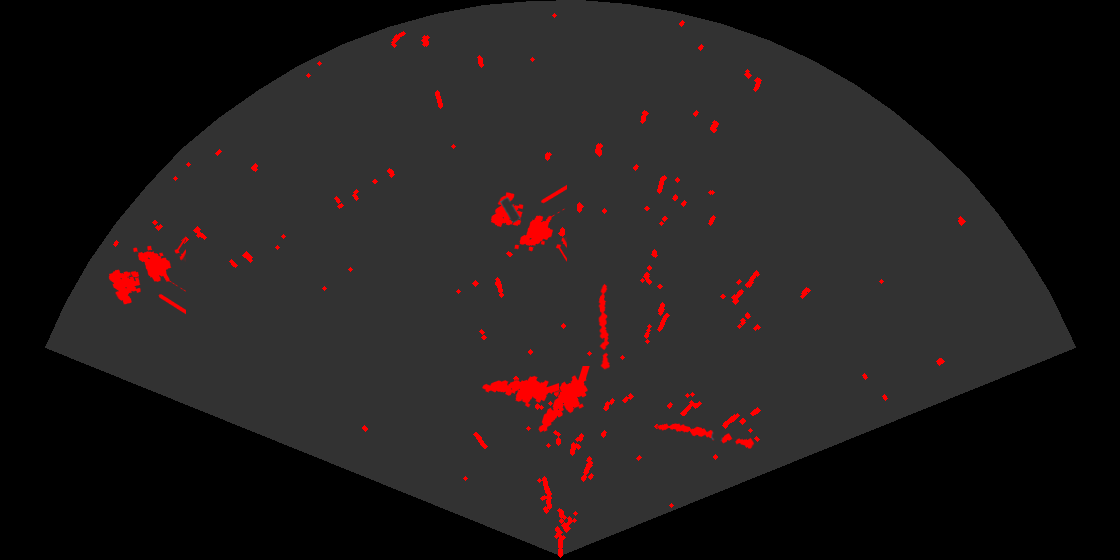cage: (107, 235, 186, 316), (489, 183, 567, 263)
chain: (656, 422, 757, 450), (597, 282, 611, 370)
frogman: (537, 366, 591, 434), (480, 374, 559, 409)
